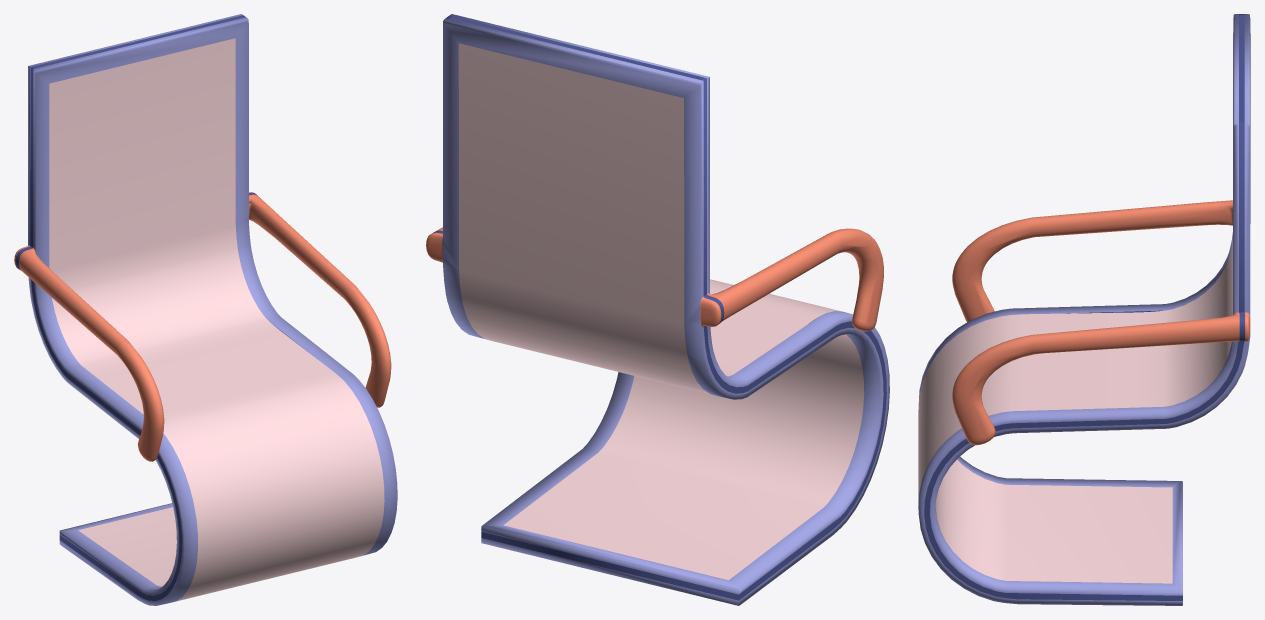
File: Chair1.fbx
3 renders of one model, left to right at view 1: azimuth 30°, elevation 25°; view 2: azimuth 150°, elevation 25°; view 3: azimuth 270°, elevation 25°, orthographic. The views are drawn at different scales.
Parts seen in each view (by area): view 1: Chair1; view 2: Chair1; view 3: Chair1.
Part boxes in pixels (box(x1,y1,x2,y2)): Chair1: box(14, 14, 397, 605); Chair1: box(426, 14, 889, 605); Chair1: box(918, 14, 1250, 605).
Size of the model in its own units: 0.3304 by 0.5924 by 0.3695.
1 material, 1 textured.
